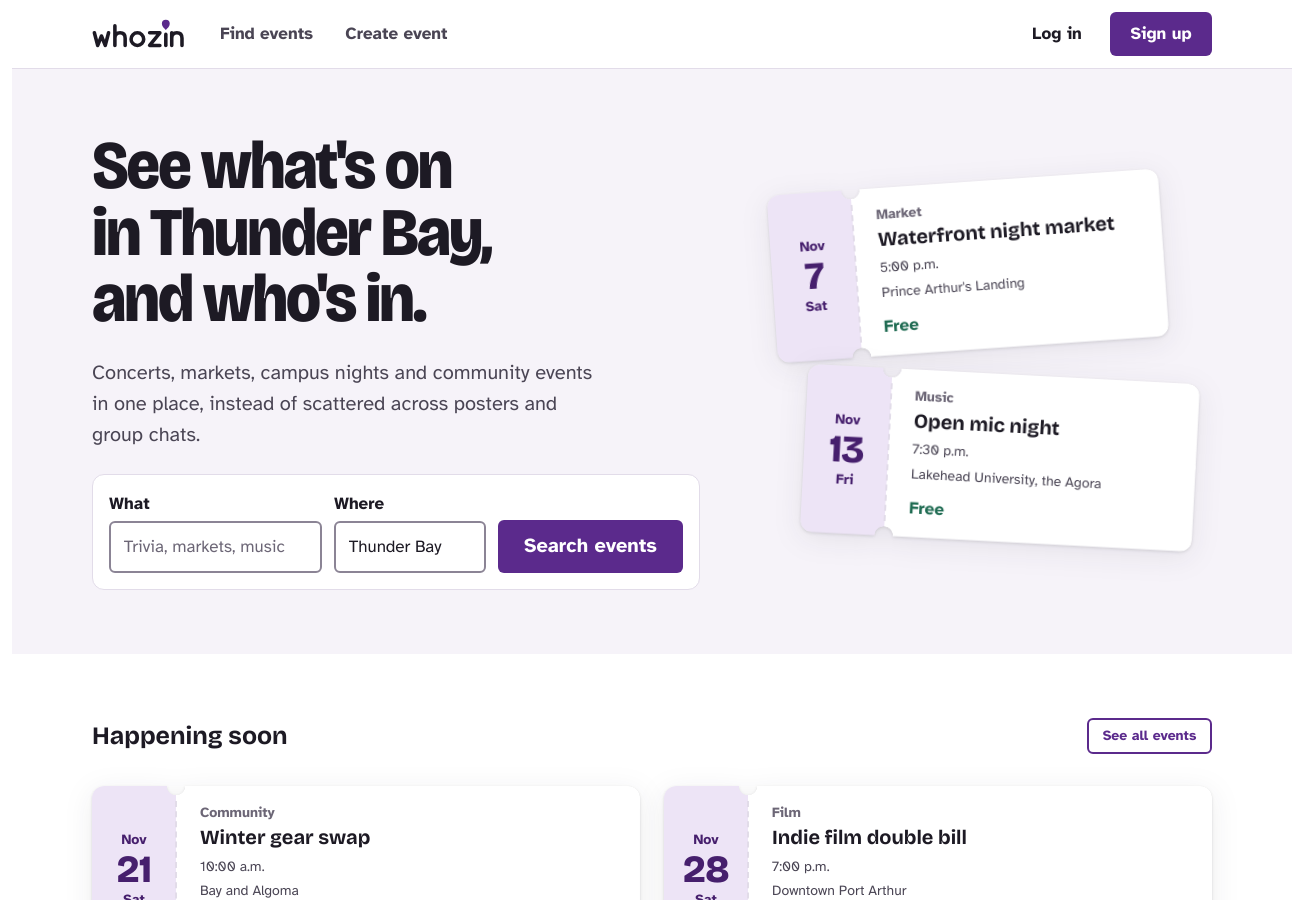
it: homepage › sends the search terms to the search page
Type "night market" into the search field labelled "What" at (216, 547), box [109,521,322,573]
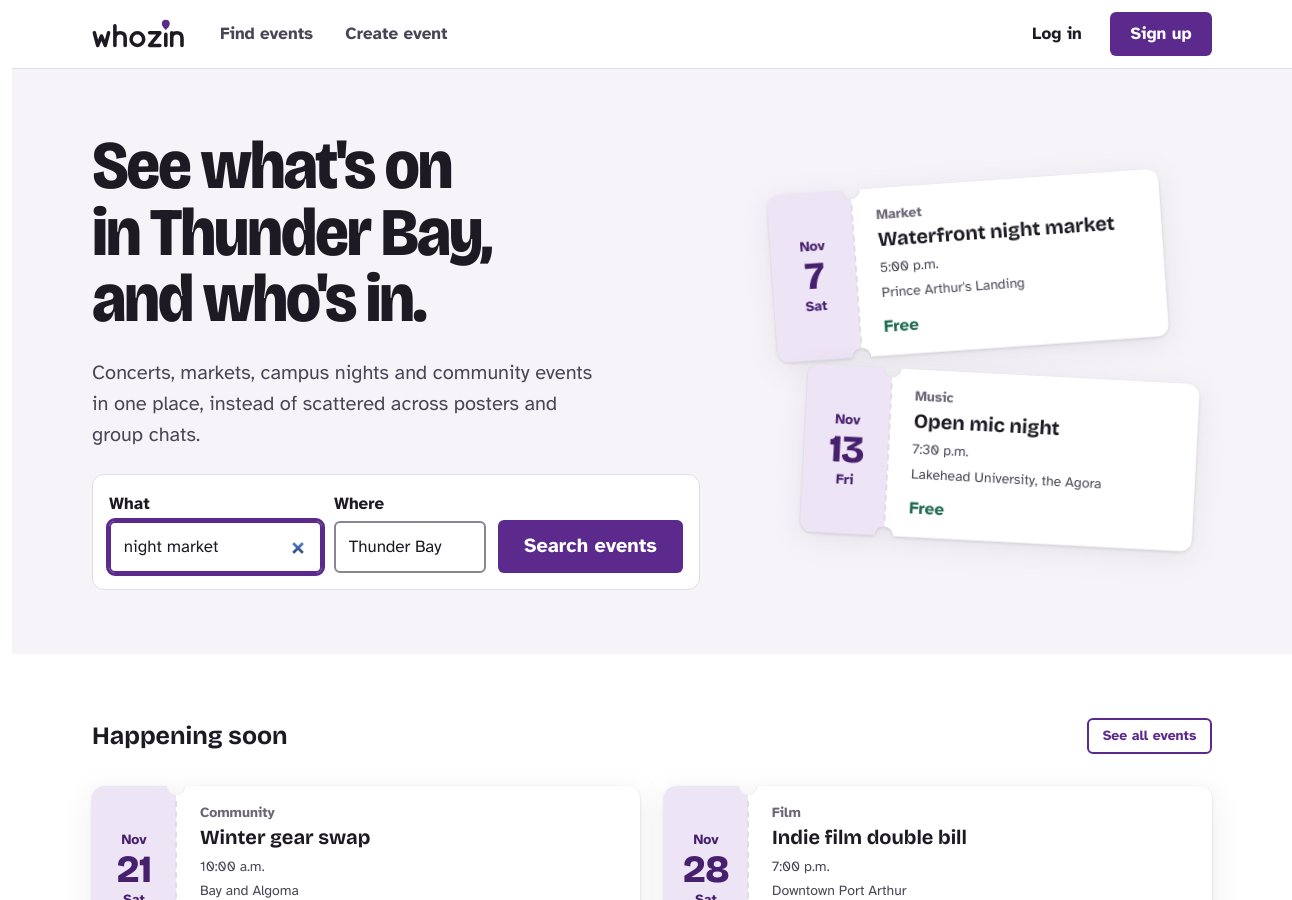
Click the button "Search events" at (591, 546), box [498,520,683,573]
(page scrolled)
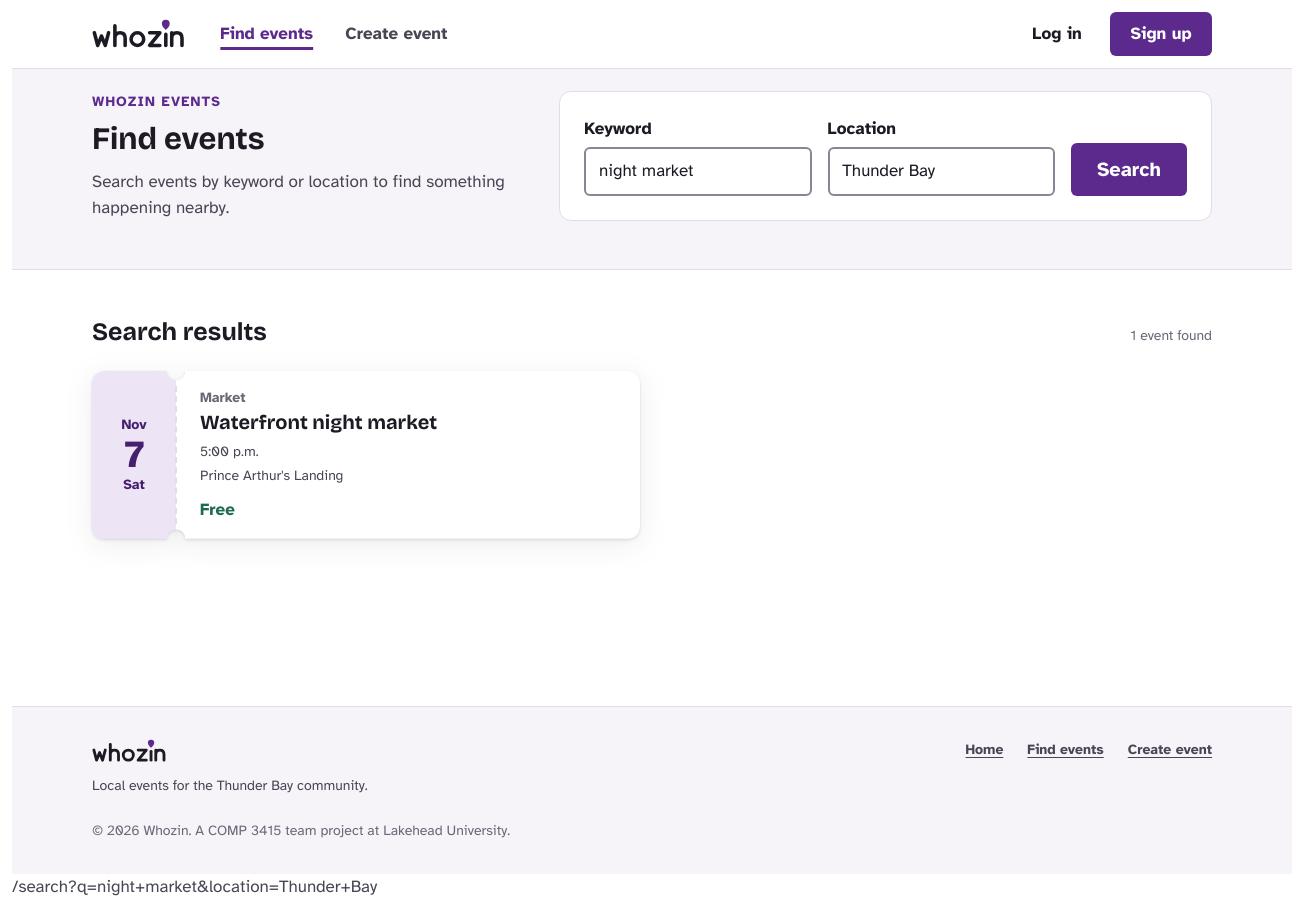
Now the text with test id "location" reads "/search?q=night+market&location=Thunder+Bay", box [12,876,377,897]
